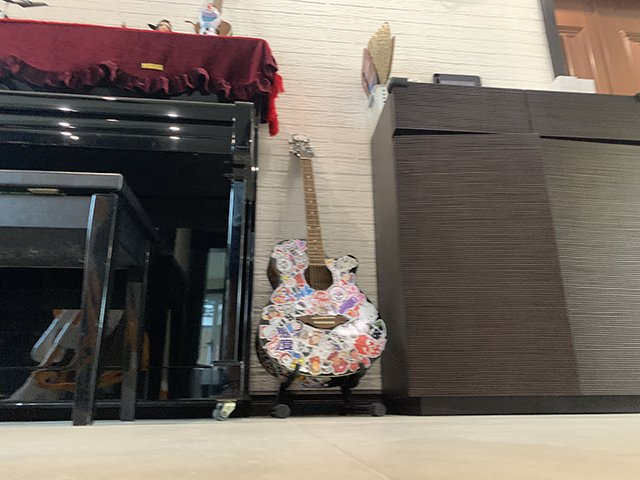cabinet: (369, 76, 640, 415)
stool: (1, 168, 164, 427)
